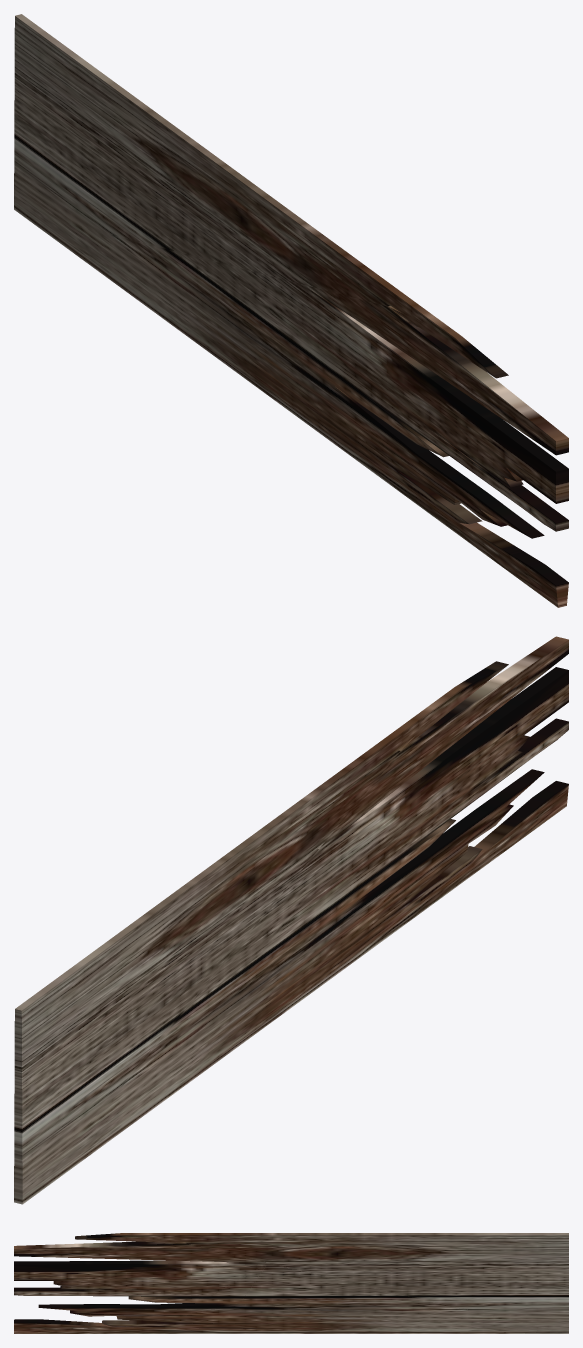
The model's file is tabla.glb.
The picture shows the model from 3 angles, top to bottom: view 1: azimuth 30°, elevation 25°; view 2: azimuth 150°, elevation 25°; view 3: azimuth 270°, elevation 25°; orthographic projection. The views are drawn at different scales.
Parts seen in each view (by area): view 1: Cubo.024; view 2: Cubo.024; view 3: Cubo.024.
Part boxes in pixels (x1,y1,x2,y2): Cubo.024: [14, 14, 568, 607]; Cubo.024: [14, 636, 568, 1204]; Cubo.024: [14, 1233, 568, 1333].
Bounding box in the file's own units: 0.0274 × 0.3926 × 2.
2 materials, 2 textured.
